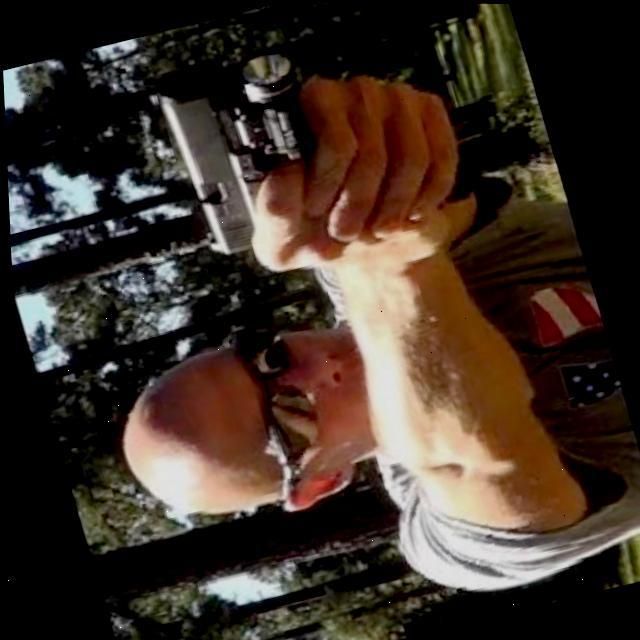gun: (126, 11, 369, 272)
